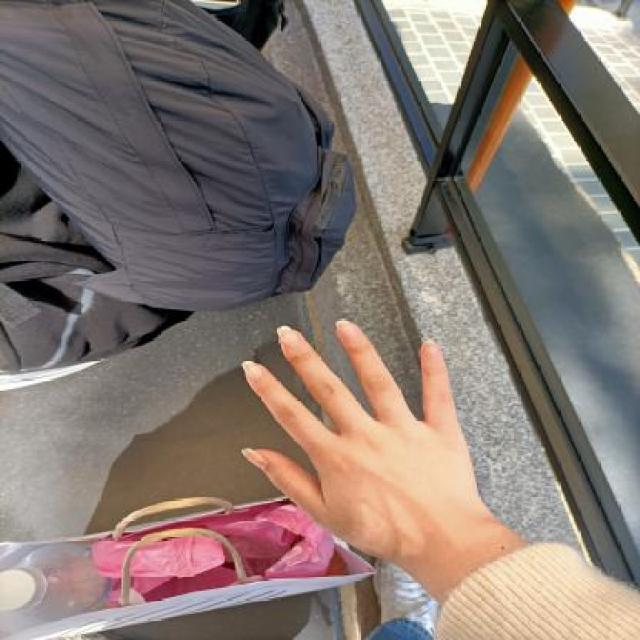bare_hand: (238, 309, 497, 566)
